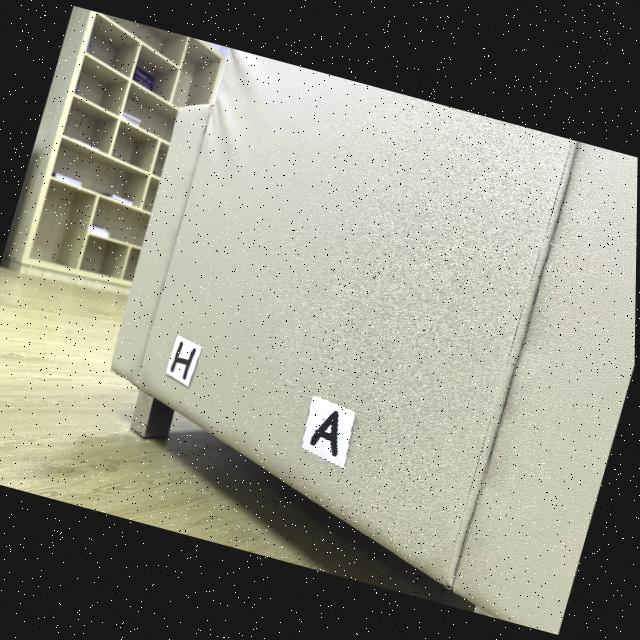A: (311, 411, 340, 457)
H: (171, 341, 196, 379)
